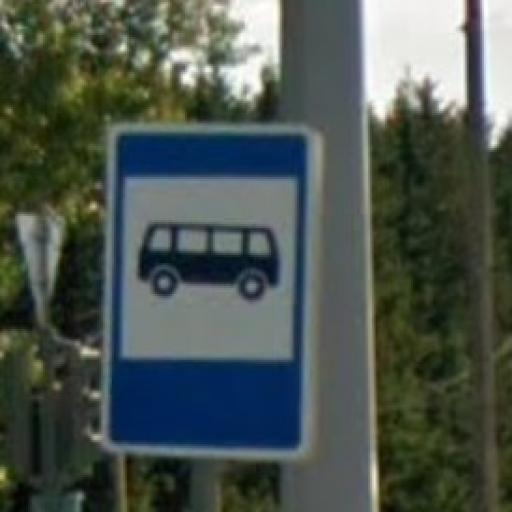traffic_sign: (102, 125, 313, 460)
